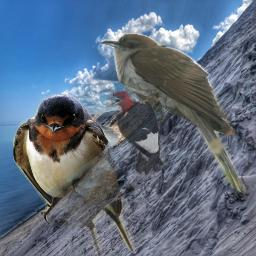Cuckoo: (101, 33, 246, 198)
Swallow: (13, 94, 135, 254)
Woodpecker: (106, 87, 168, 175)
